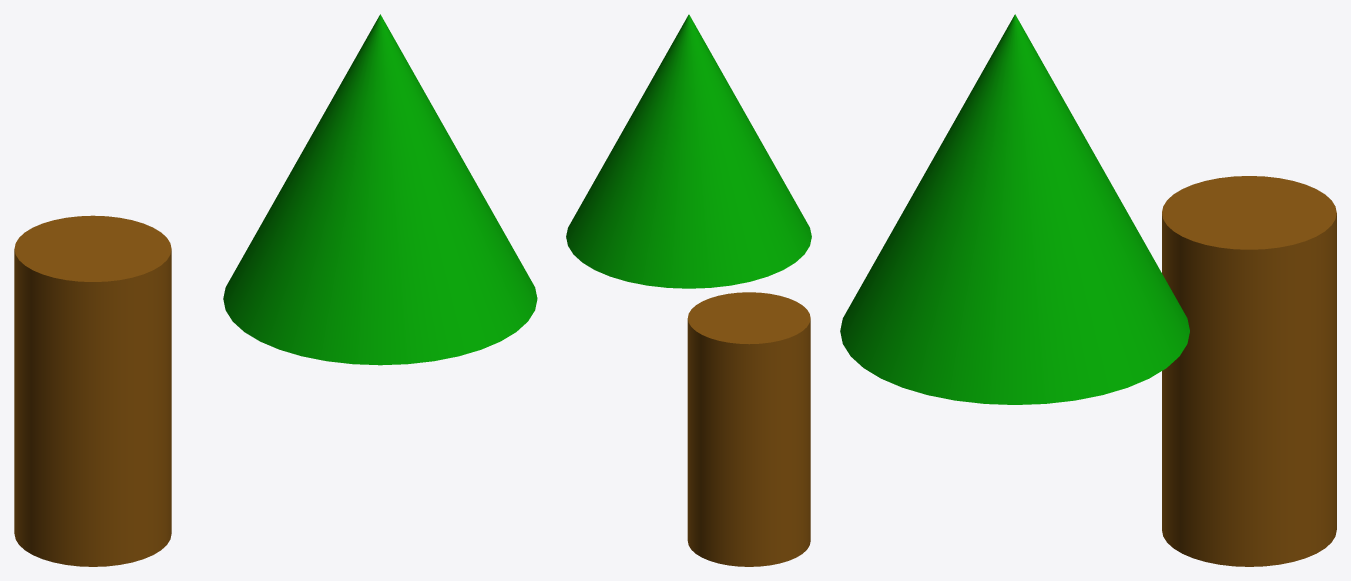
Rendered from Tree.fbx.
The picture shows the model from 3 angles, left to right: view 1: azimuth 30°, elevation 25°; view 2: azimuth 150°, elevation 25°; view 3: azimuth 270°, elevation 25°; orthographic projection. The views are drawn at different scales.
Visible parts, largest first — view 1: Kegel, Zylinder; view 2: Kegel, Zylinder; view 3: Kegel, Zylinder.
Part boxes in pixels (x1=…): Kegel: x1=223, y1=14, x2=537, y2=365; Zylinder: x1=14, y1=215, x2=171, y2=566; Kegel: x1=566, y1=14, x2=811, y2=288; Zylinder: x1=687, y1=292, x2=810, y2=566; Kegel: x1=840, y1=14, x2=1189, y2=404; Zylinder: x1=1162, y1=176, x2=1336, y2=566.
Bounding box in the file's own units: 284 × 388 × 284.
